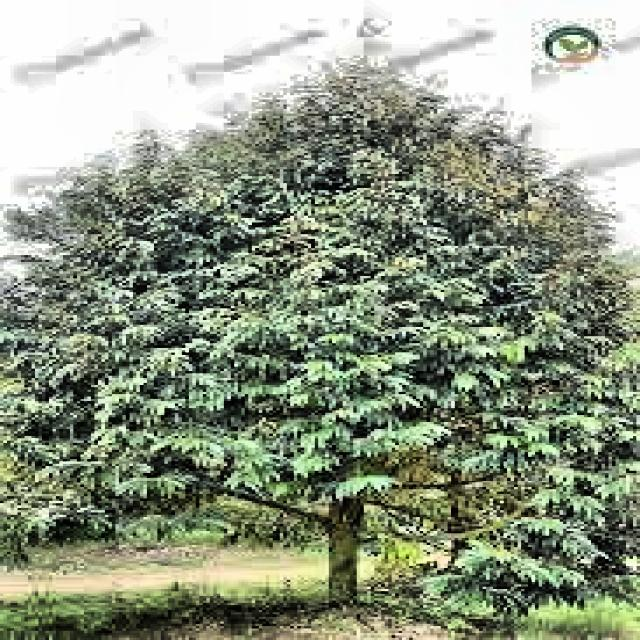arvore: (286, 367, 394, 619)
